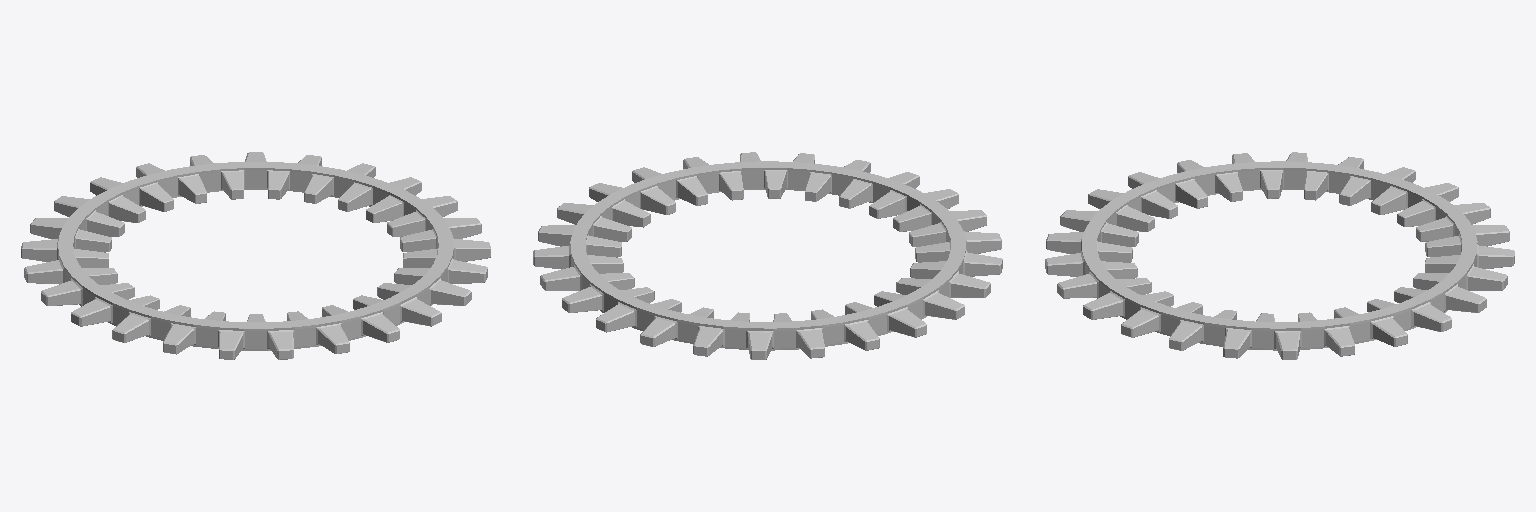
Rendered from GEARHOLLOW.obj.
3 views of the same model, side by side, from view 1: azimuth 30°, elevation 25°; view 2: azimuth 150°, elevation 25°; view 3: azimuth 270°, elevation 25° (orthographic).
Visible parts, largest first — view 1: GEARHOLLOW; view 2: GEARHOLLOW; view 3: GEARHOLLOW.
Part boxes in pixels (bbox=[...]): GEARHOLLOW: bbox=[21, 152, 490, 359]; GEARHOLLOW: bbox=[533, 152, 1002, 359]; GEARHOLLOW: bbox=[1045, 152, 1514, 359].
Bounding box in the file's own units: 6.38 × 0.3282 × 6.37.